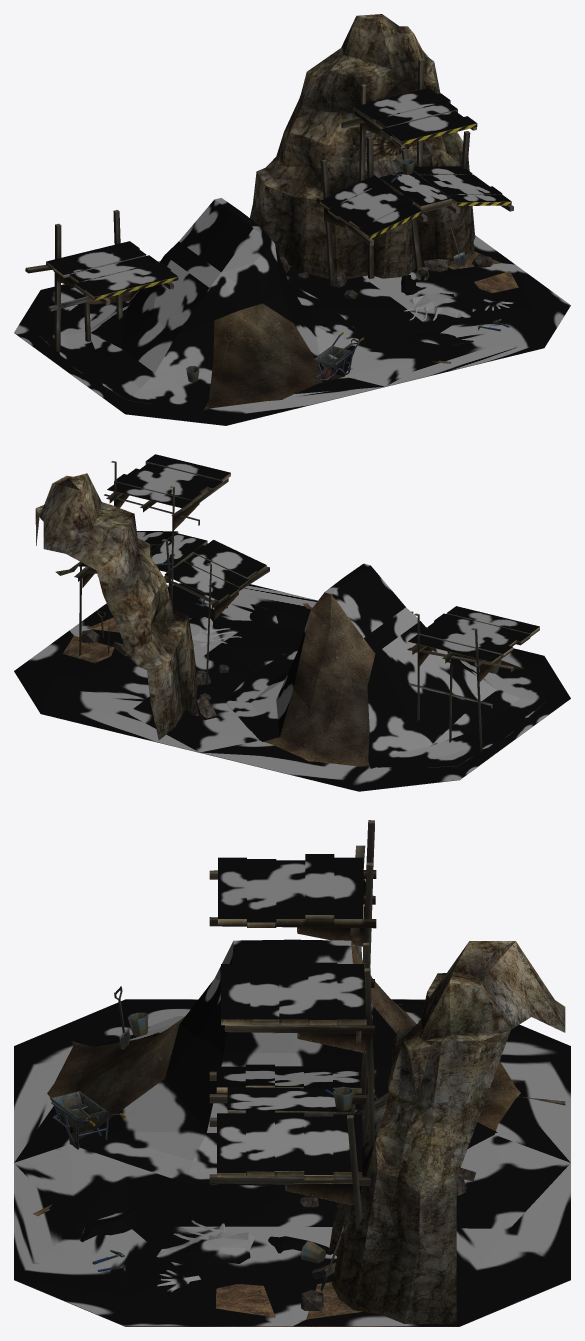
File: floor-ground.glb
The picture shows the model from 3 angles, top to bottom: view 1: azimuth 30°, elevation 25°; view 2: azimuth 150°, elevation 25°; view 3: azimuth 270°, elevation 25°; orthographic projection. The views are drawn at different scales.
Visible parts, largest first — view 1: NShadow1 (×2), StgStadium00Tuchi (×6), sunayama (×2), NShadow1_B2, NShadow1_B1, NShadow1_B3; view 2: NShadow1 (×2), StgStadium00Tuchi (×5), sunayama (×2), NShadow1_B2, NShadow1_B1, NShadow1_B3, TuchiItaA01, TuchiItaB01, TuchiItaC01; view 3: NShadow1 (×2), StgStadium00Tuchi (×7), NShadow1_B2, sunayama (×2), NShadow1_B1, NShadow1_B3, TuchiItaB01, TuchiItaA01, TuchiItaC02.
Part boxes in pixels (x1,y1,x2,y2): NShadow1 (×2): (14, 198, 570, 425); StgStadium00Tuchi (×6): (14, 14, 570, 425); sunayama (×2): (40, 290, 344, 410); NShadow1_B2: (320, 166, 511, 235); NShadow1_B1: (46, 241, 177, 296); NShadow1_B3: (353, 88, 476, 141); NShadow1 (×2): (14, 563, 570, 791); StgStadium00Tuchi (×5): (14, 461, 570, 791); sunayama (×2): (224, 592, 545, 767); NShadow1_B2: (79, 531, 266, 600); NShadow1_B1: (408, 606, 539, 661); NShadow1_B3: (107, 454, 230, 507); TuchiItaA01: (408, 613, 539, 664); TuchiItaB01: (107, 461, 230, 511); TuchiItaC01: (165, 552, 266, 603); NShadow1 (×2): (14, 939, 570, 1326); StgStadium00Tuchi (×7): (14, 820, 570, 1326); NShadow1_B2: (216, 1064, 362, 1175); sunayama (×2): (47, 941, 520, 1144); NShadow1_B1: (218, 854, 363, 922); NShadow1_B3: (221, 962, 366, 1019); TuchiItaB01: (221, 1019, 366, 1025); TuchiItaA01: (218, 915, 363, 927); TuchiItaC02: (217, 1171, 362, 1180).
Bounding box in the file's own units: 148 × 66.78 × 102.
19 materials, 19 textured.
